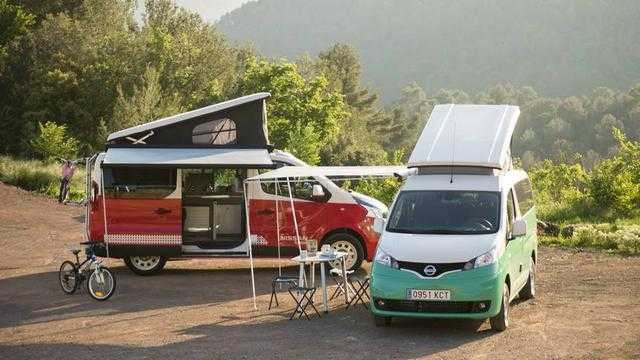van: (86, 147, 390, 276), (366, 167, 541, 332)
